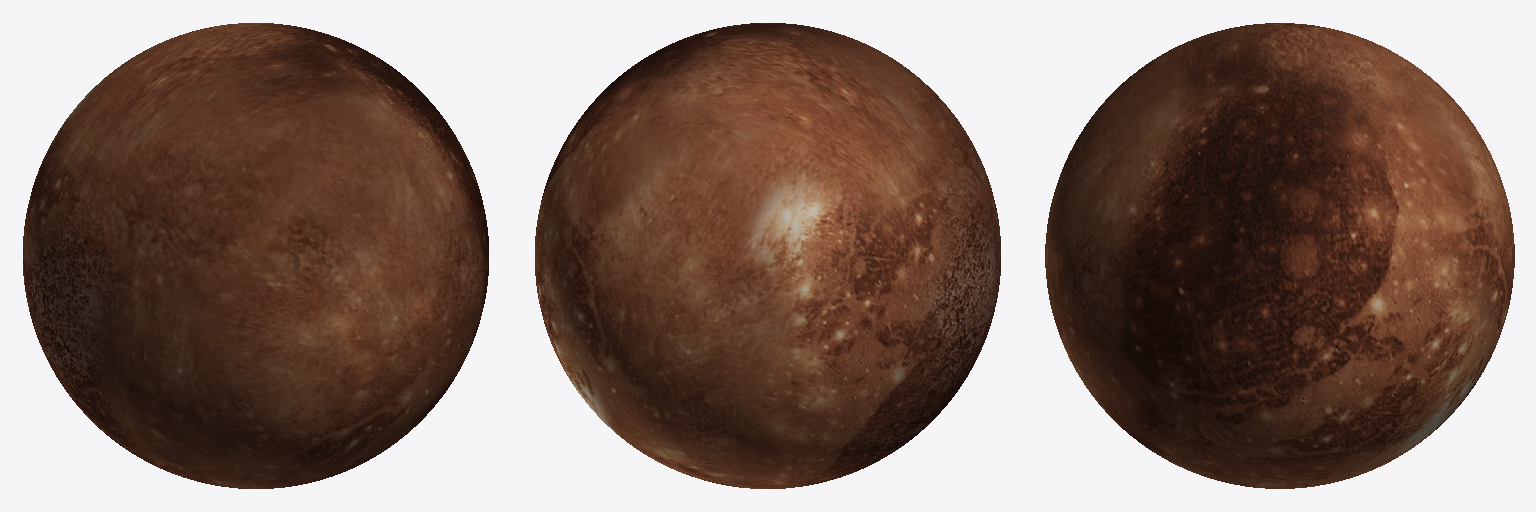
3 views of the same model, side by side, from view 1: azimuth 30°, elevation 25°; view 2: azimuth 150°, elevation 25°; view 3: azimuth 270°, elevation 25° (orthographic).
Parts seen in each view (by area): view 1: 13900_Mercury; view 2: 13900_Mercury; view 3: 13900_Mercury.
Boxes of the visible parts, x1,y1,x2,y2 form: 13900_Mercury: [23, 23, 488, 488]; 13900_Mercury: [535, 23, 1000, 488]; 13900_Mercury: [1045, 23, 1514, 488].
Size of the model in its own units: 970 by 970 by 980.
1 materials, 1 textured.